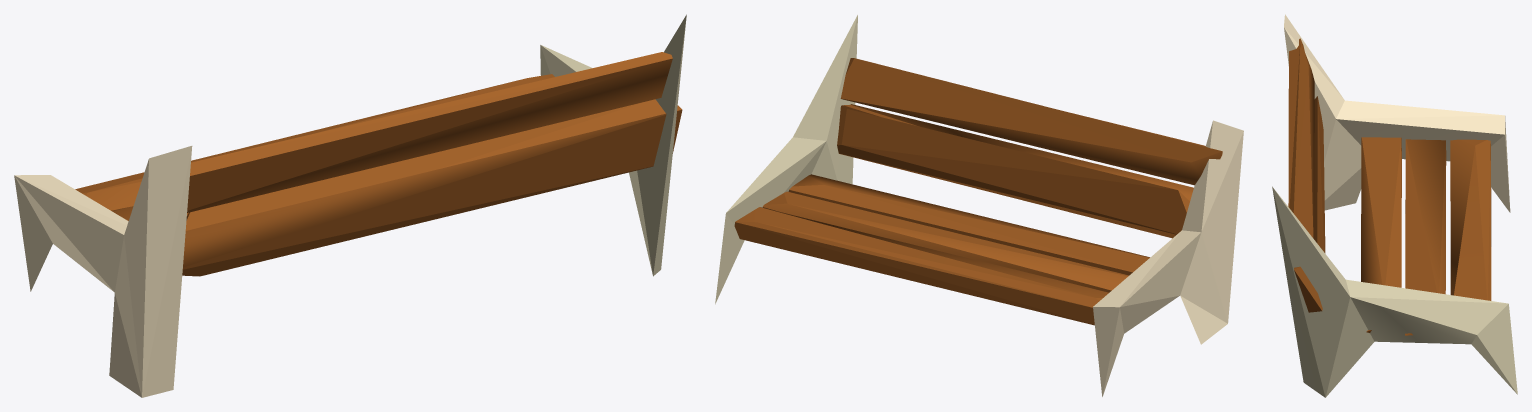
File: BenchinBeach.fbx
3 renders of one model, left to right at view 1: azimuth 30°, elevation 25°; view 2: azimuth 150°, elevation 25°; view 3: azimuth 270°, elevation 25°, orthographic. The views are drawn at different scales.
Visible parts, largest first — view 1: Cube.004, Plane.002, Plane.001; view 2: Cube.004, Plane.002, Plane.001; view 3: Cube.004, Plane.001, Plane.002.
Part boxes in pixels (x1,y1,x2,y2): Cube.004: [75, 52, 682, 276]; Plane.002: [14, 146, 192, 397]; Plane.001: [540, 14, 686, 276]; Cube.004: [734, 58, 1222, 325]; Plane.002: [1093, 120, 1243, 396]; Plane.001: [715, 15, 857, 304]; Cube.004: [1288, 38, 1491, 335]; Plane.001: [1272, 186, 1517, 397]; Plane.002: [1284, 14, 1510, 212].
Bounding box in the file's own units: 104 × 50.43 × 54.03.
